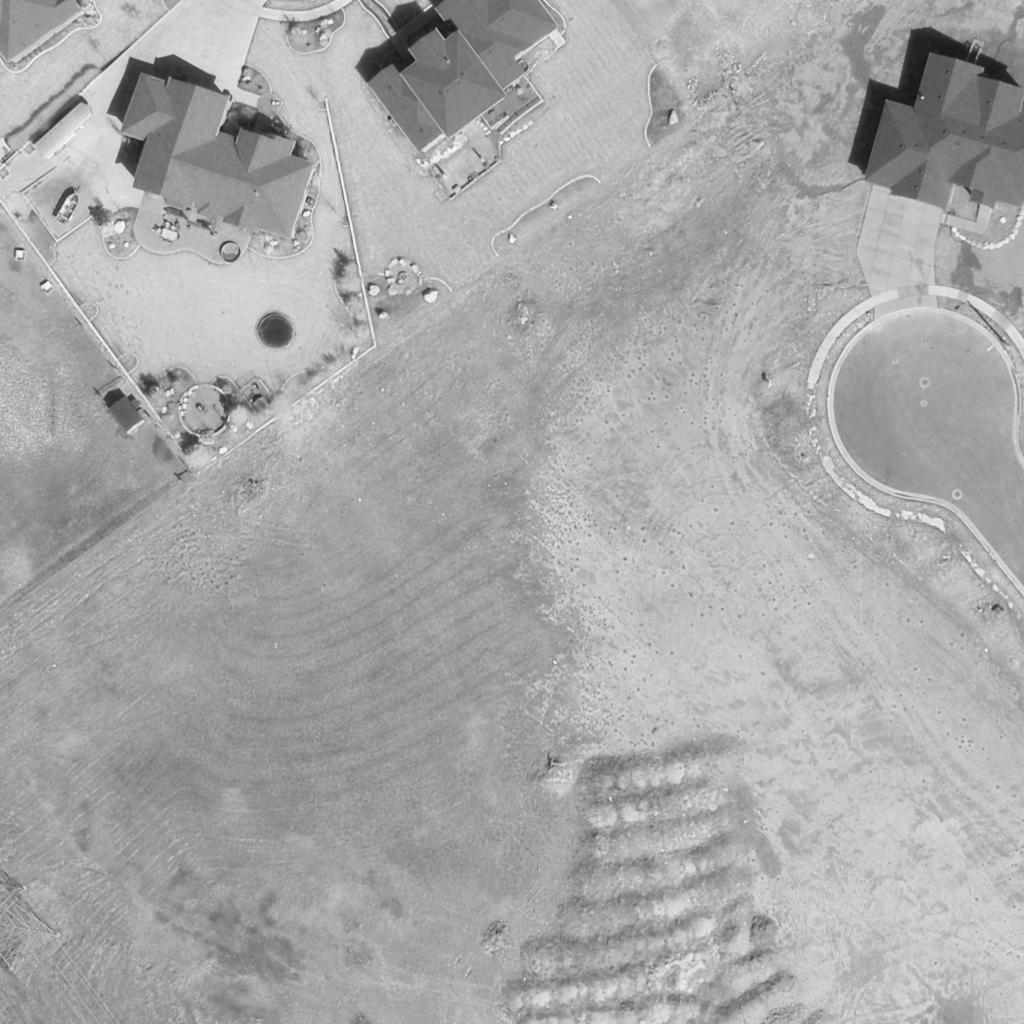vehicle: (33, 100, 97, 160), (53, 191, 81, 227)
